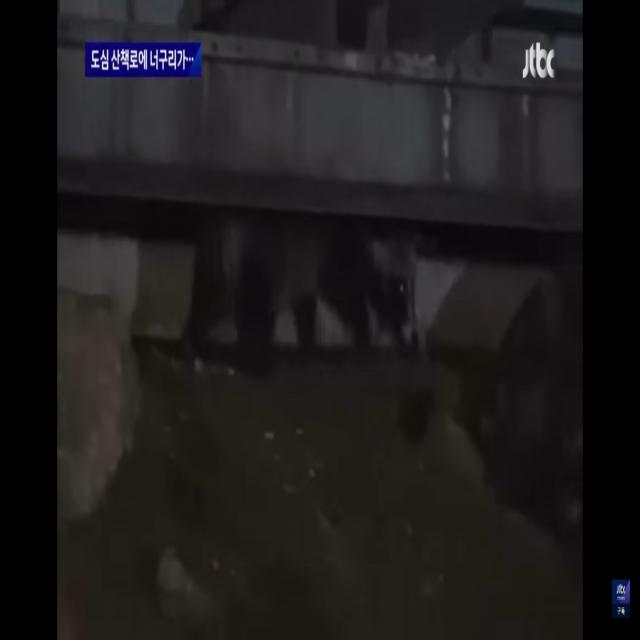racoon: (187, 216, 427, 360)
